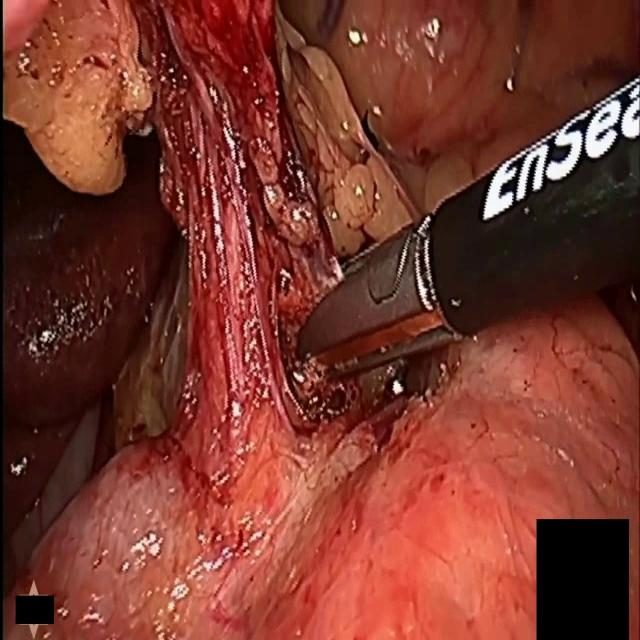surgical-area: (2, 0, 640, 639)
surgical-tool: (290, 70, 640, 381)
